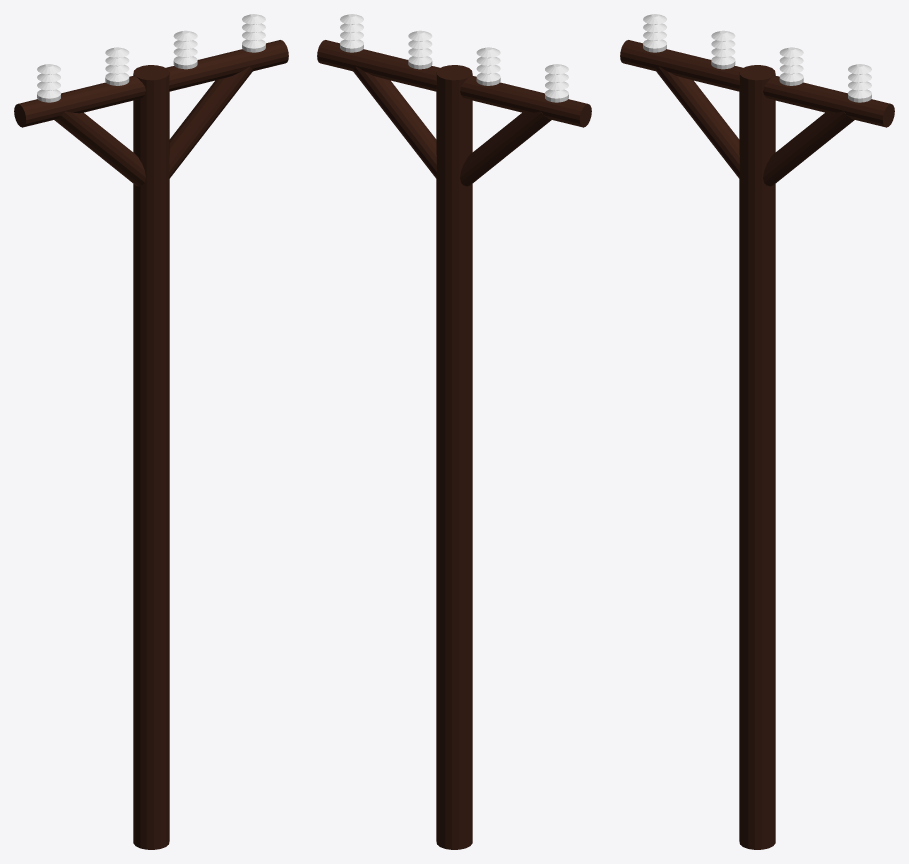
File: Powerpole.fbx
3 views of the same model, side by side, from view 1: azimuth 30°, elevation 25°; view 2: azimuth 150°, elevation 25°; view 3: azimuth 330°, elevation 25° (orthographic).
Parts seen in each view (by area): view 1: powerpole, powerpoleSupport.001, powerpoleSupport.002, powerpoleTransformer; view 2: powerpole, powerpoleSupport.001, powerpoleSupport.002, powerpoleTransformer; view 3: powerpole, powerpoleSupport.001, powerpoleSupport.002, powerpoleTransformer.
Boxes of the visible parts, left/top/right/bottom form: powerpole: left=133, top=65, right=169, bottom=849; powerpoleSupport.001: left=14, top=40, right=288, bottom=127; powerpoleSupport.002: left=54, top=66, right=253, bottom=186; powerpoleTransformer: left=37, top=14, right=265, bottom=102; powerpole: left=436, top=65, right=472, bottom=849; powerpoleSupport.001: left=317, top=40, right=591, bottom=127; powerpoleSupport.002: left=352, top=66, right=551, bottom=186; powerpoleTransformer: left=340, top=14, right=568, bottom=102; powerpole: left=739, top=65, right=775, bottom=849; powerpoleSupport.001: left=620, top=40, right=894, bottom=127; powerpoleSupport.002: left=655, top=66, right=854, bottom=186; powerpoleTransformer: left=643, top=14, right=871, bottom=102.
Size of the model in its own units: 2.5 by 7.29 by 0.3.
